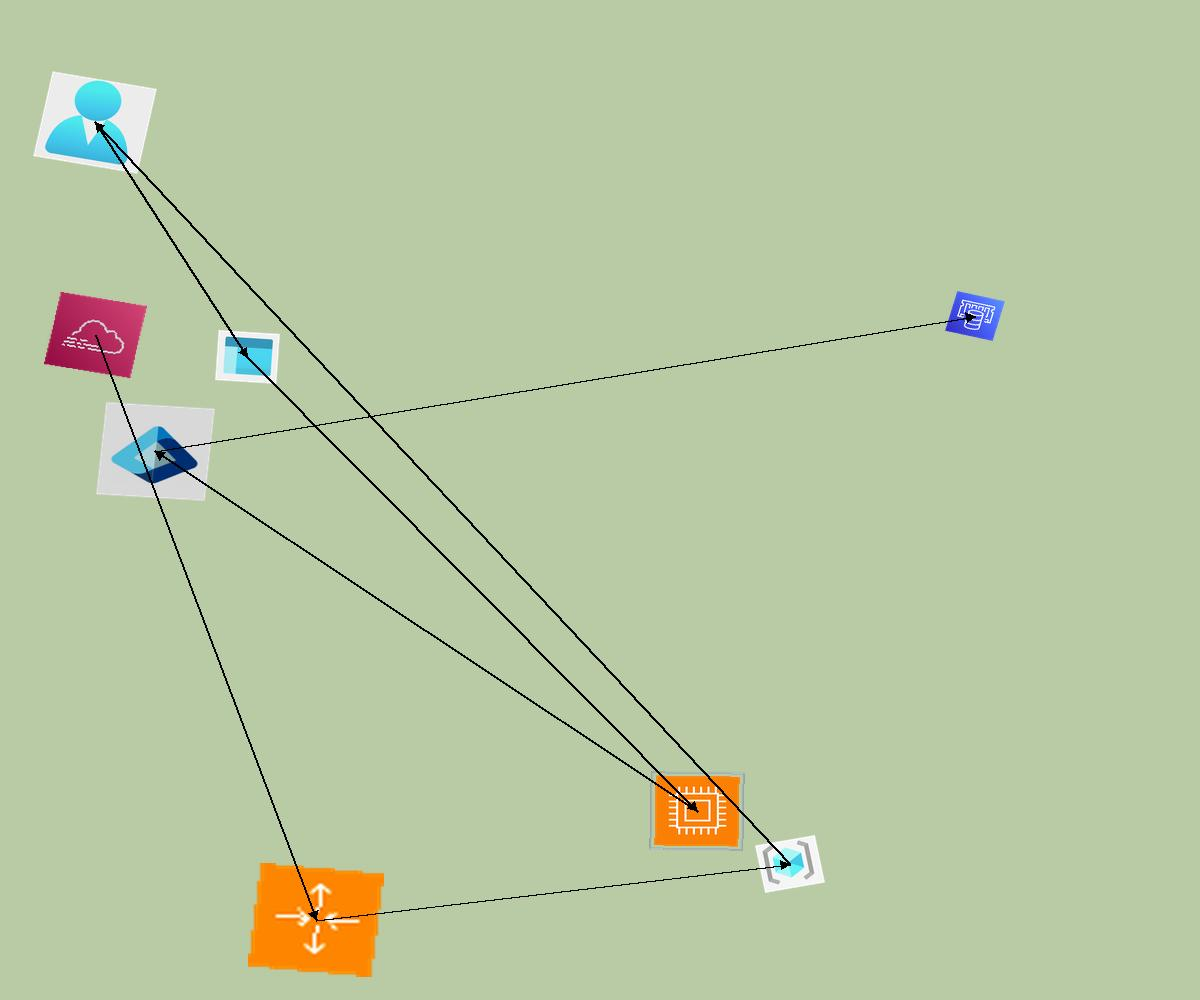AWS-Category_Compute: (649, 771, 745, 851)
AWS-CloudTrail: (43, 291, 148, 379)
AWS-ElastiCache: (945, 291, 1005, 341)
AWS-Scaling-group: (248, 863, 384, 977)
Azure_management-portal: (215, 330, 280, 384)
Azure_microsoft_entra: (96, 402, 215, 501)
Azure_resource_group: (755, 835, 825, 893)
Azure_users: (33, 71, 157, 174)
